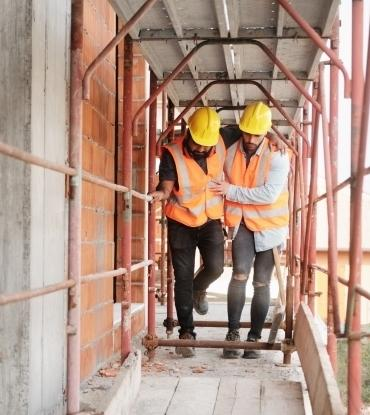hard hat: (237, 99, 278, 137), (189, 106, 224, 146)
